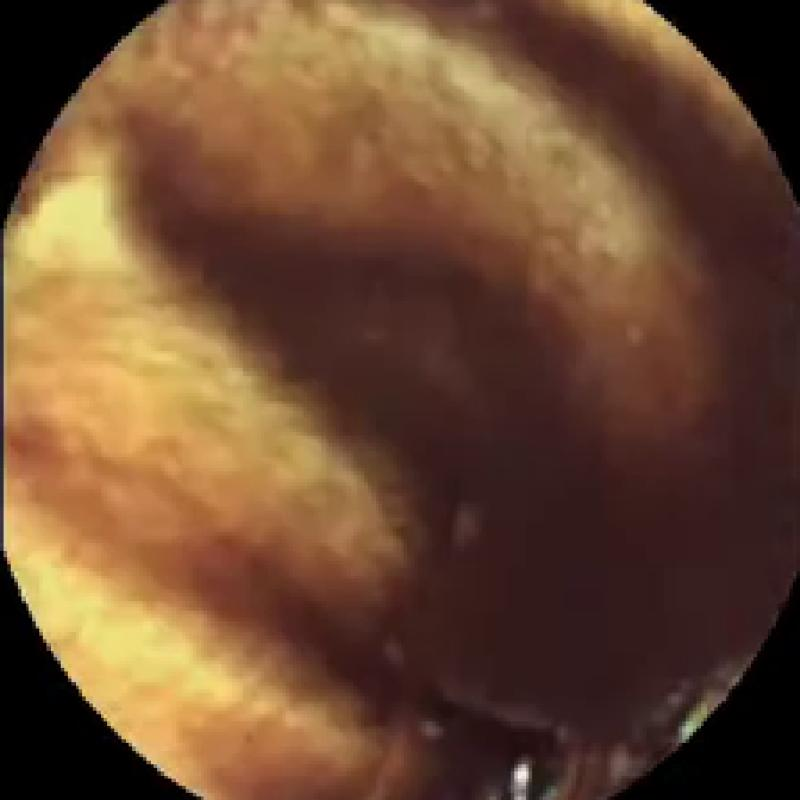bleeding: (428, 643, 743, 800)
